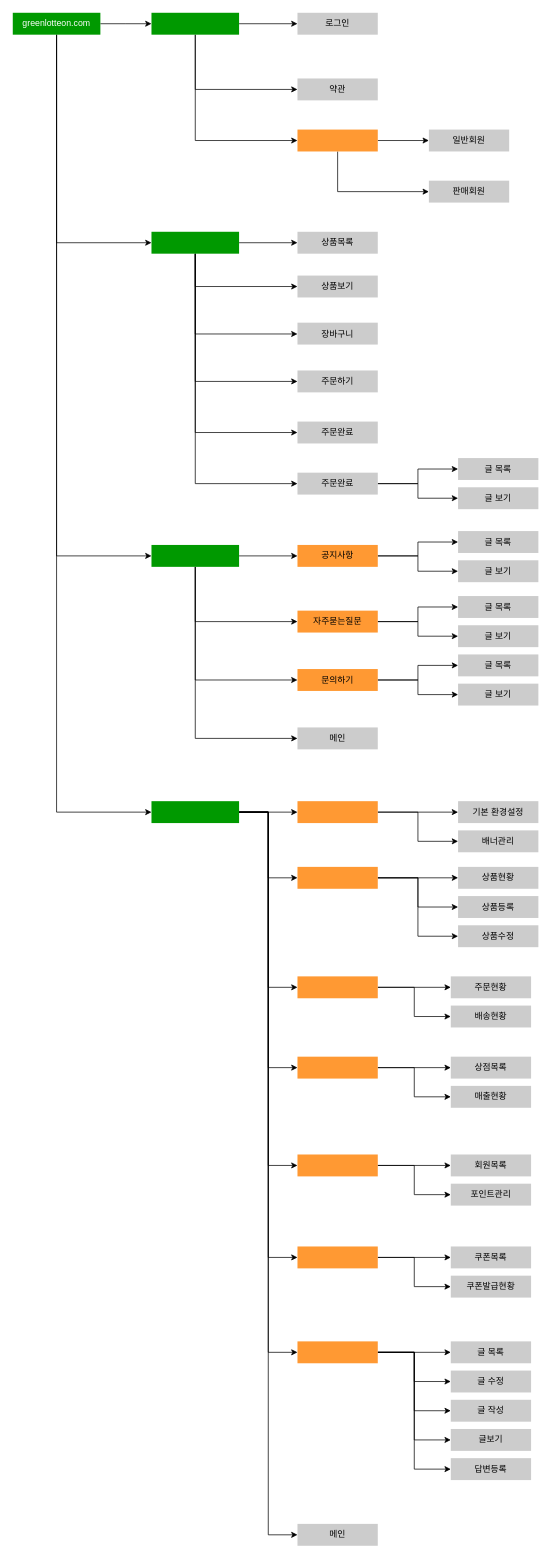
This 550x1558 diagram has some shape labels left out. The centre of each missing label's shape, as x and y in pixels:
"게시판관리" belongs at (337,1352).
"고객(cs)" belongs at (195,555).
"관리자(admin)" belongs at (195,812).
"상점관리" belongs at (337,1067).
"상품(product)" belongs at (195,242).
"상품관리" belongs at (337,877).
"주문관리" belongs at (337,987).
"쿠폰관리" belongs at (337,1257).
"환경설정" belongs at (337,812).
"회원(member)" belongs at (195,23).
"회원가입" belongs at (337,140).
"회원관리" belongs at (337,1165).
